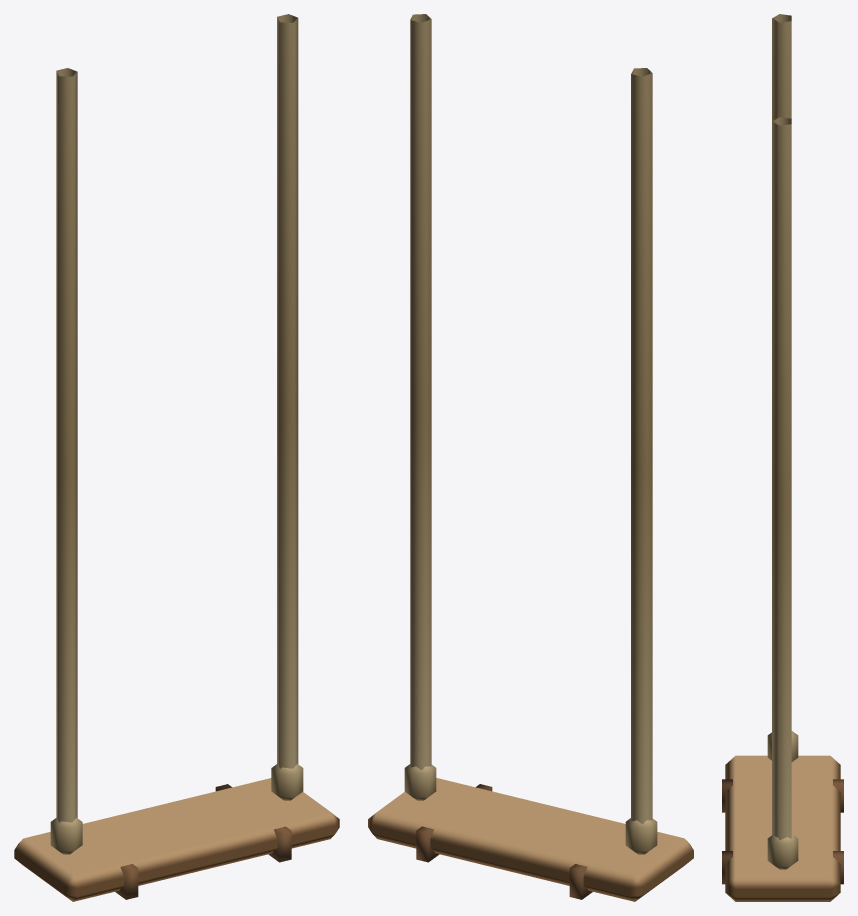
Rendered from poi-wishtree-2.glb.
The picture shows the model from 3 angles, left to right: view 1: azimuth 30°, elevation 25°; view 2: azimuth 150°, elevation 25°; view 3: azimuth 270°, elevation 25°; orthographic projection. The views are drawn at different scales.
Visible parts, largest first — view 1: body; view 2: body; view 3: body.
Part boxes in pixels (left/top/right/bottom): body: left=14, top=14, right=339, bottom=901; body: left=368, top=14, right=693, bottom=901; body: left=722, top=14, right=843, bottom=901.
Bounding box in the file's own units: 0.9 × 2.53 × 0.36.
